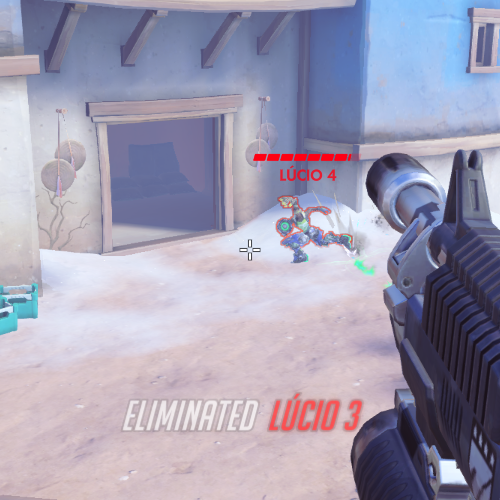hpbar: (253, 153, 362, 161)
